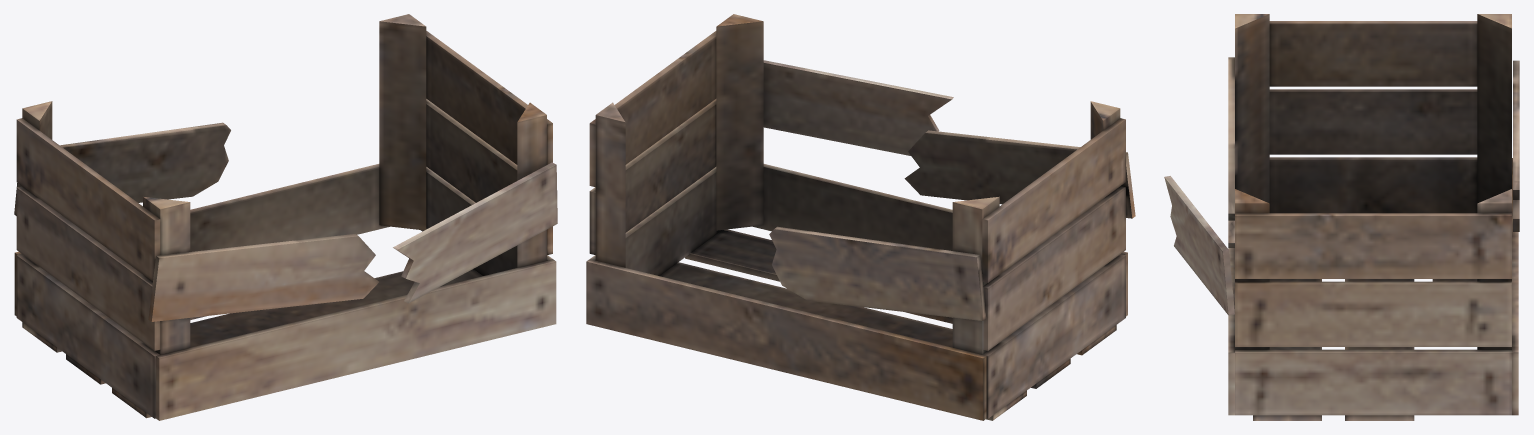
The picture shows the model from 3 angles, left to right: view 1: azimuth 30°, elevation 25°; view 2: azimuth 150°, elevation 25°; view 3: azimuth 270°, elevation 25°; orthographic projection.
Visible parts, largest first — view 1: Box_10; view 2: Box_10; view 3: Box_10.
Boxes of the visible parts, box(x1,y1,x2,y2) form: Box_10: box(14, 14, 557, 420); Box_10: box(586, 14, 1135, 420); Box_10: box(1164, 14, 1519, 420).
Size of the model in its own units: 78.37 by 39.48 by 59.18.
